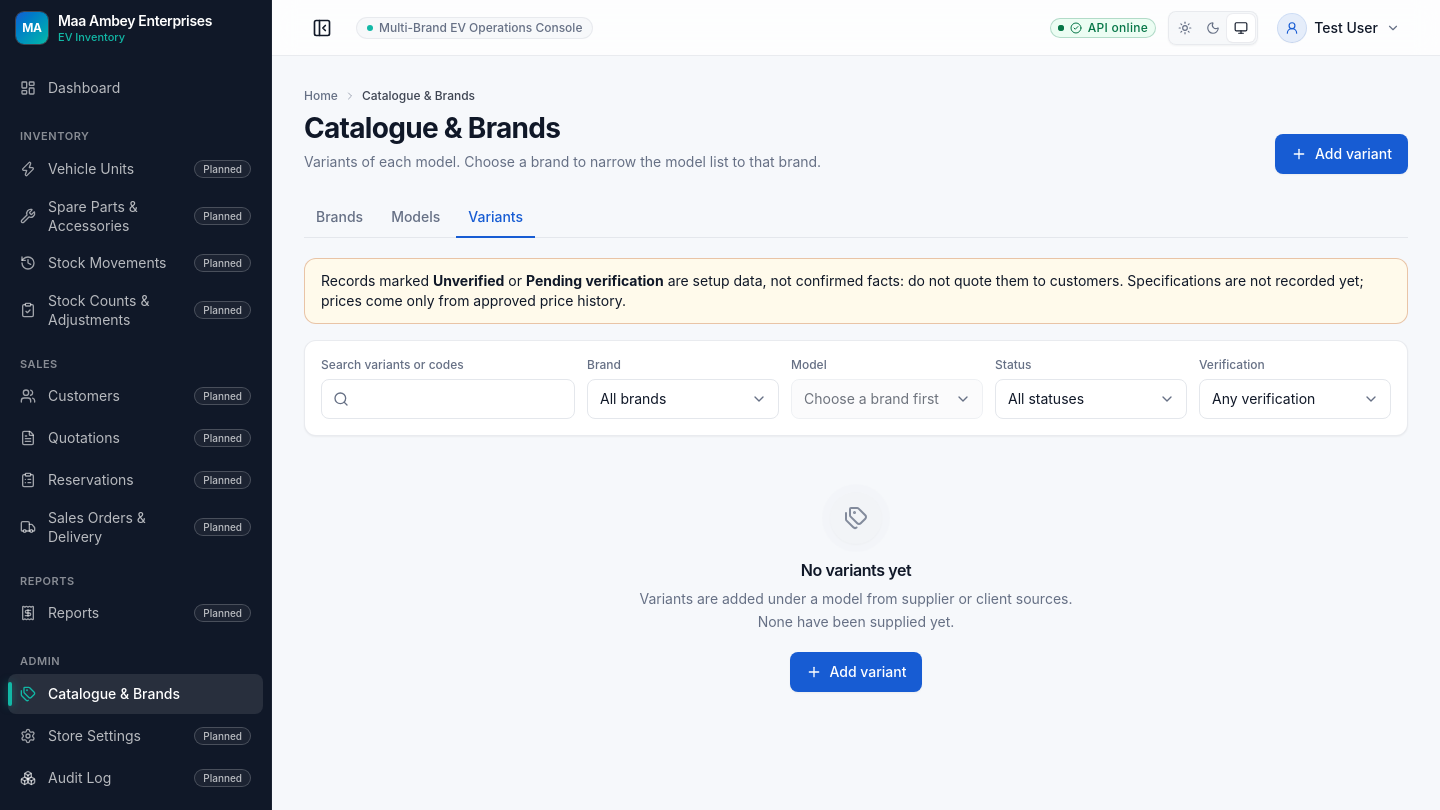
Test case: brand → model → variant selection › only offers the chosen brand’s models and never archived brands when adding a variant
Click the 1st button "Add variant" at point(1342, 154), box [1275, 134, 1408, 174]
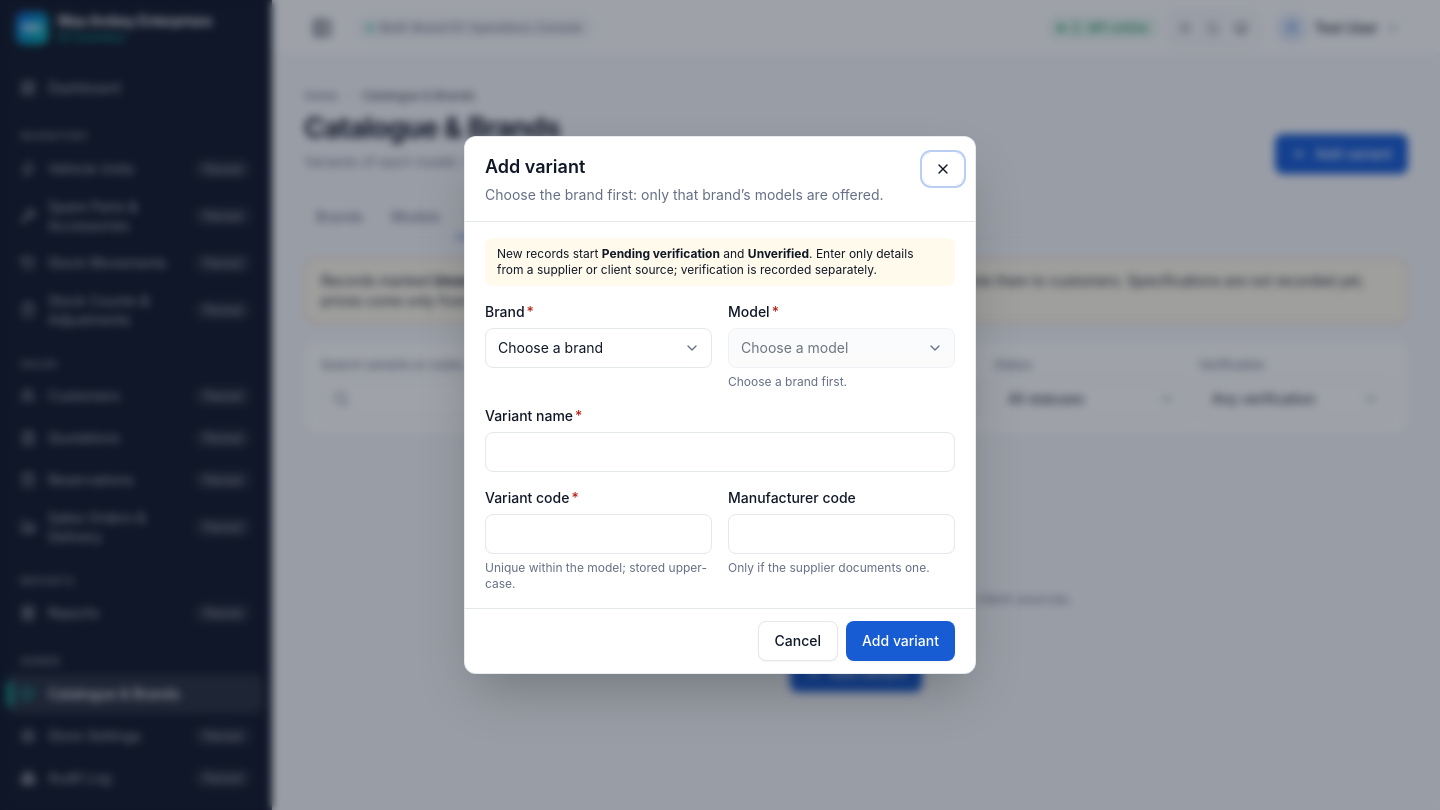
expect the dropdown labelled "Model*" is disabled: met, box [728, 328, 955, 368]
Select "Brand A" in the dropdown labelled "Brand*" at point(598, 348), box [485, 328, 712, 368]
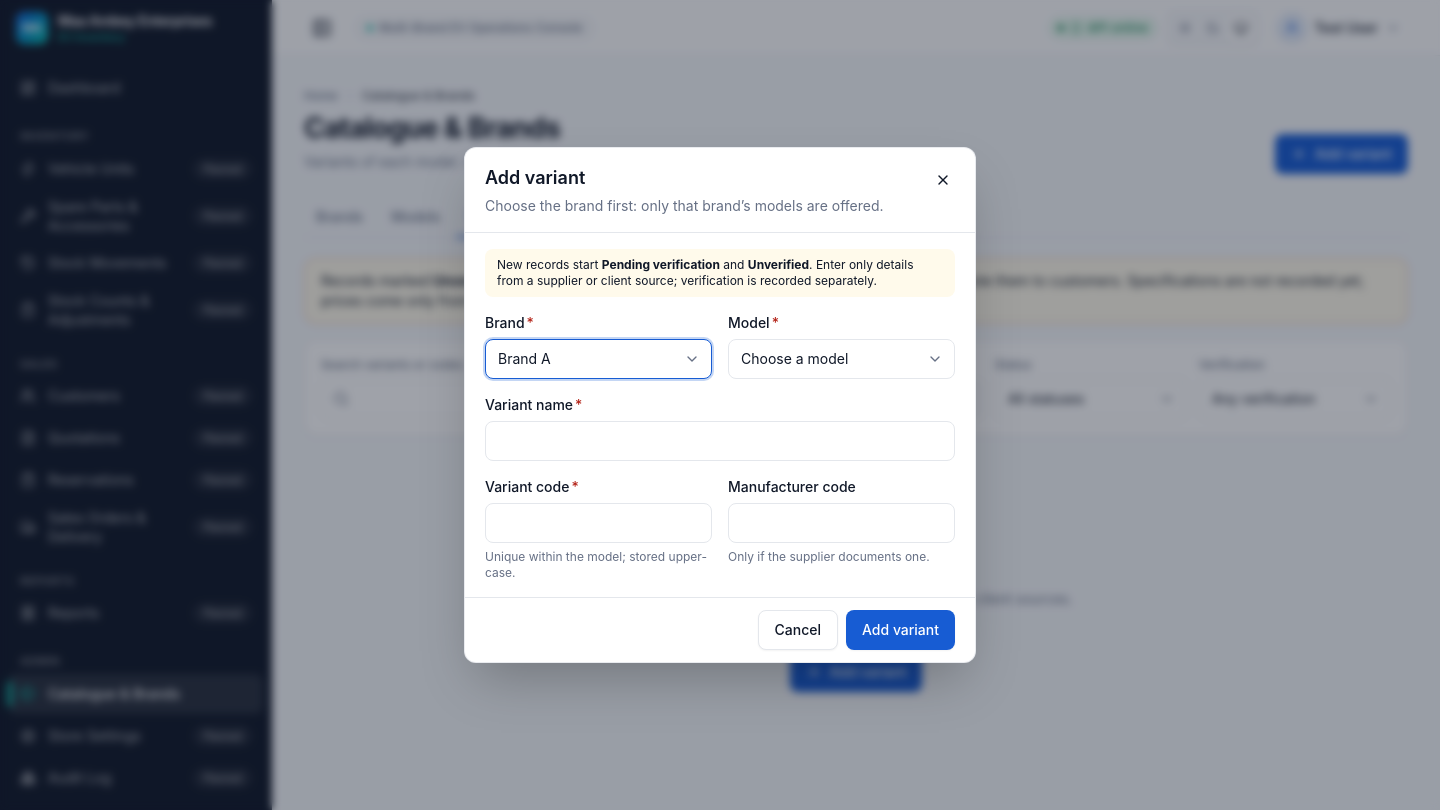
expect the dropdown labelled "Model*" is enabled: met
Select "Model A1 (MODELA1)" in the dropdown labelled "Model*" at point(842, 359), box [728, 339, 955, 379]
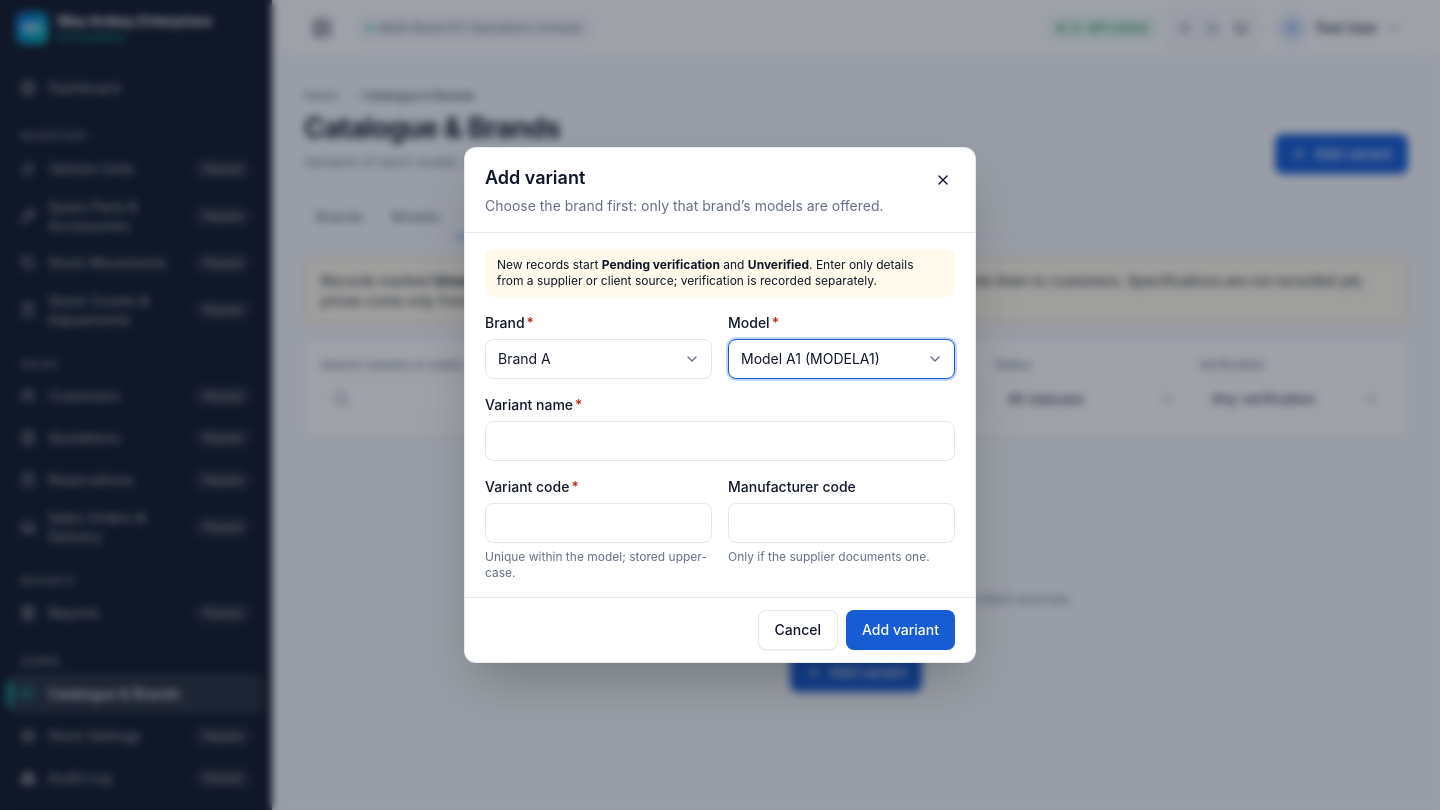
Type "Variant 1" into the field labelled "Variant name*" at point(720, 441), box [485, 421, 955, 461]
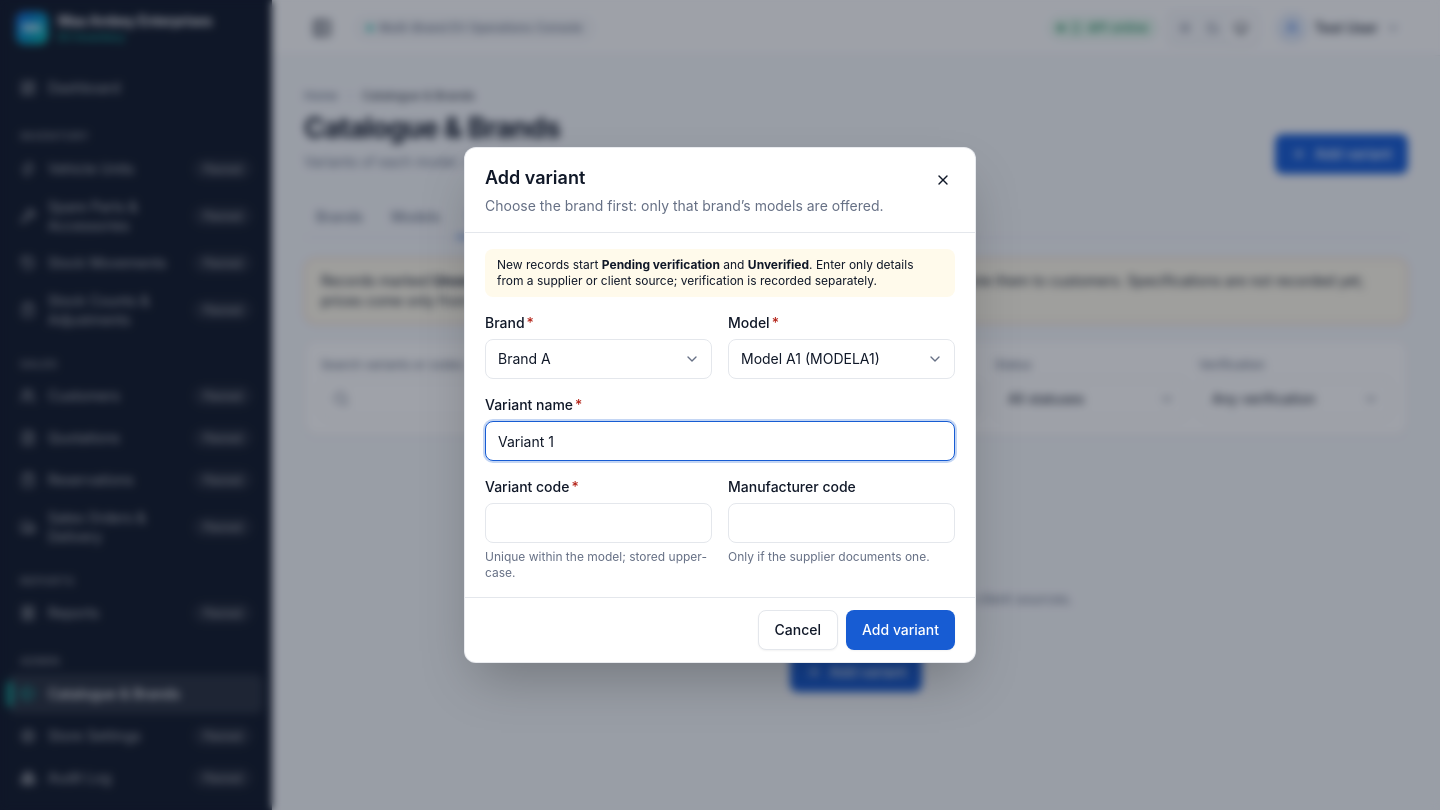
Type "std" into the field labelled "Variant code*" at point(598, 523), box [485, 503, 712, 543]
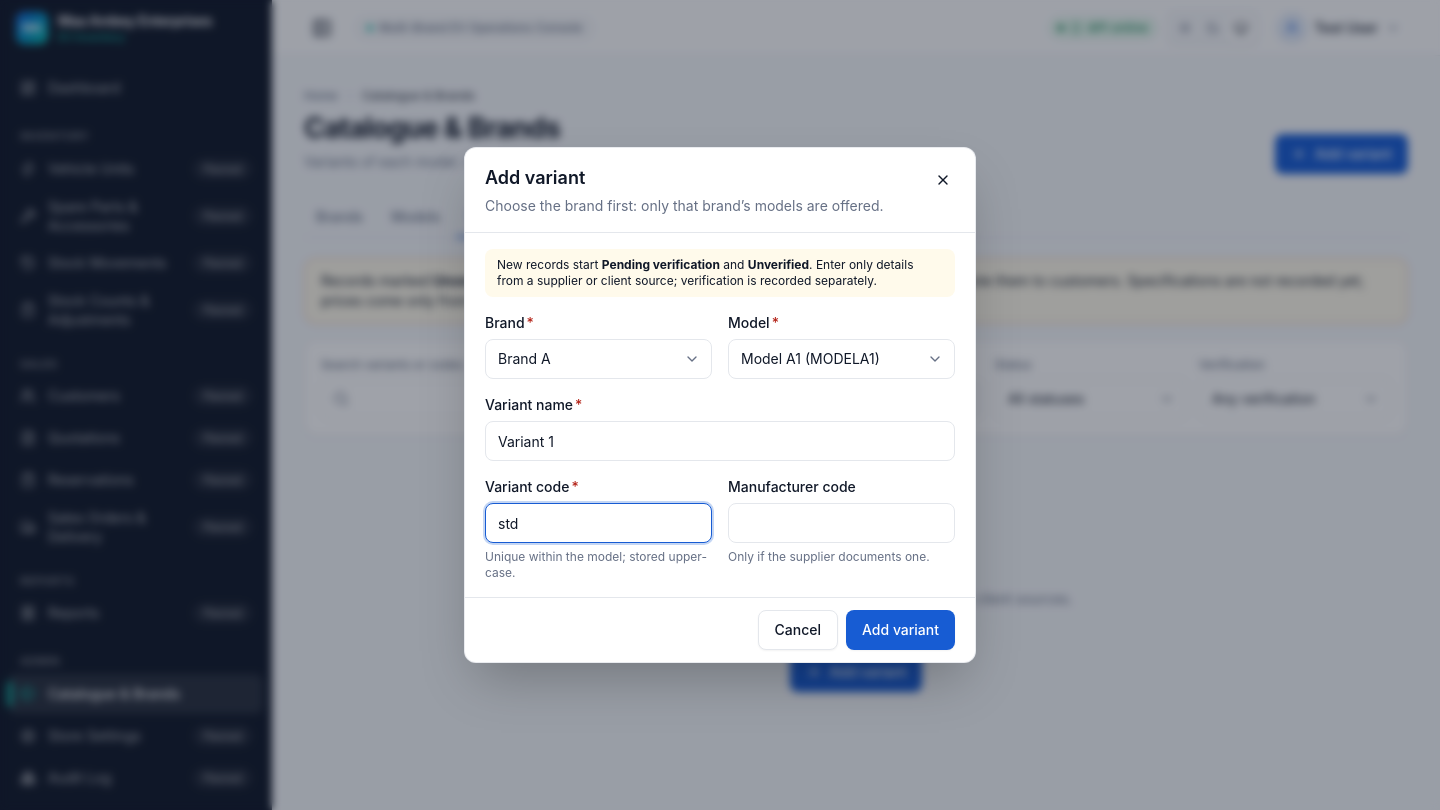
Click the button "Add variant" at point(900, 630), box [846, 610, 955, 650]
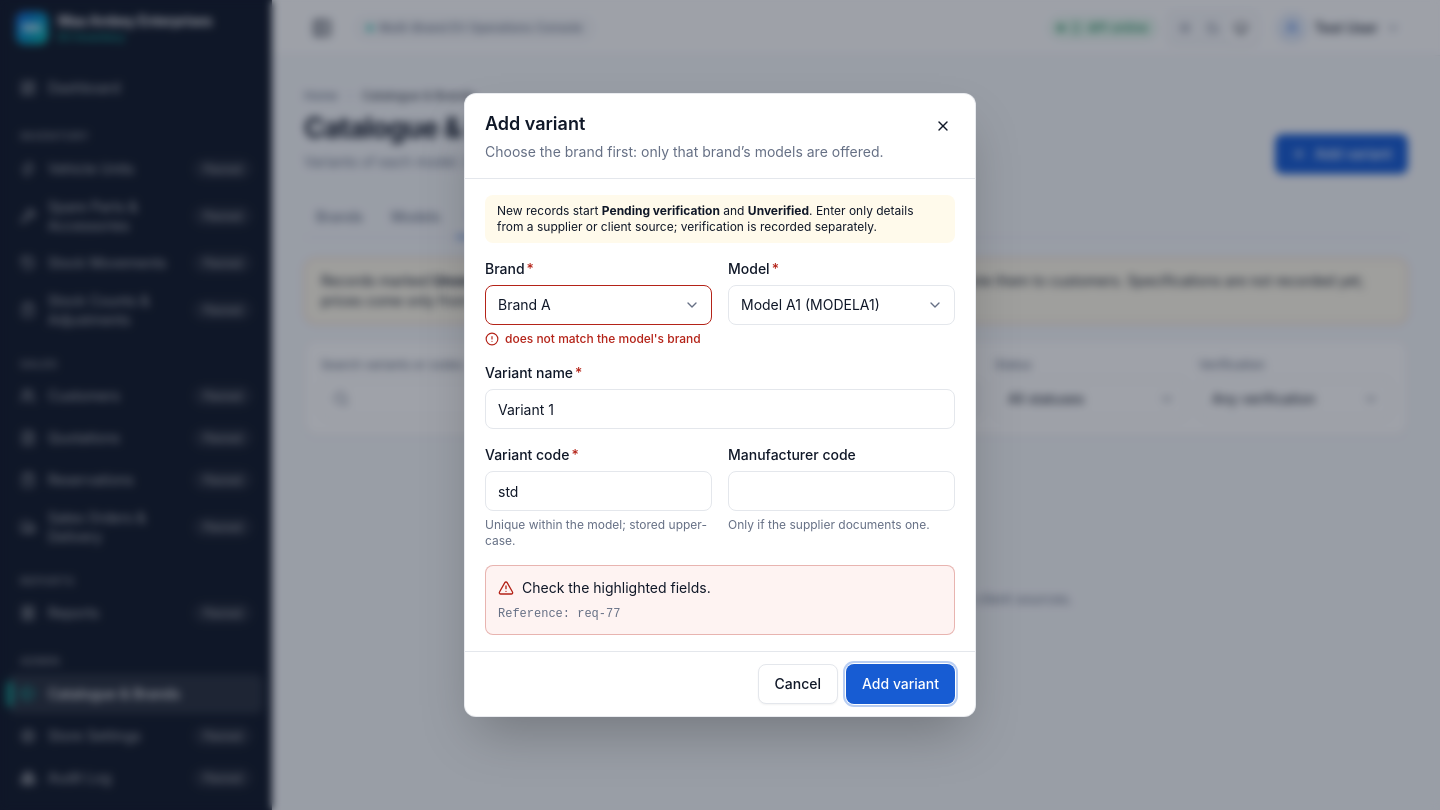
expect the text "does not match the model's brand" is shown: met, box [505, 331, 701, 347]
